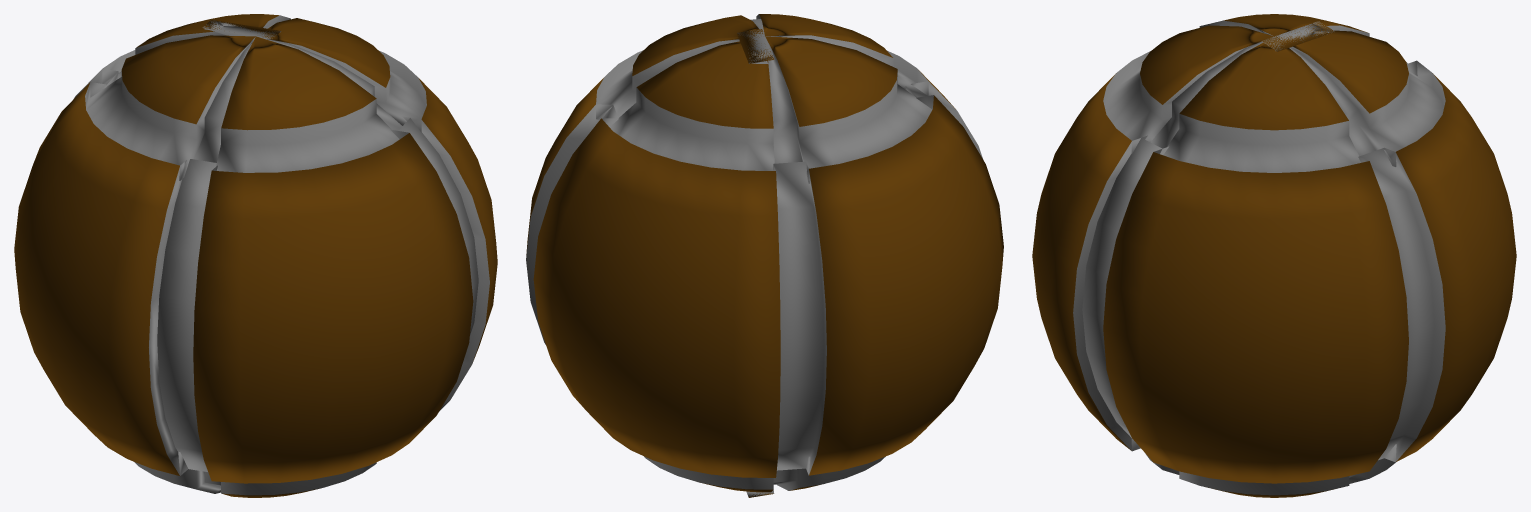
File: BrownBubble.fbx
3 views of the same model, side by side, from view 1: azimuth 30°, elevation 25°; view 2: azimuth 150°, elevation 25°; view 3: azimuth 270°, elevation 25° (orthographic).
Visible parts, largest first — view 1: Sphere; view 2: Sphere; view 3: Sphere.
Boxes of the visible parts, box(x1,y1,x2,y2) form: Sphere: box(14, 14, 497, 497); Sphere: box(526, 14, 1003, 497); Sphere: box(1032, 14, 1516, 497).
Size of the model in its own units: 2 by 2.01 by 2.
